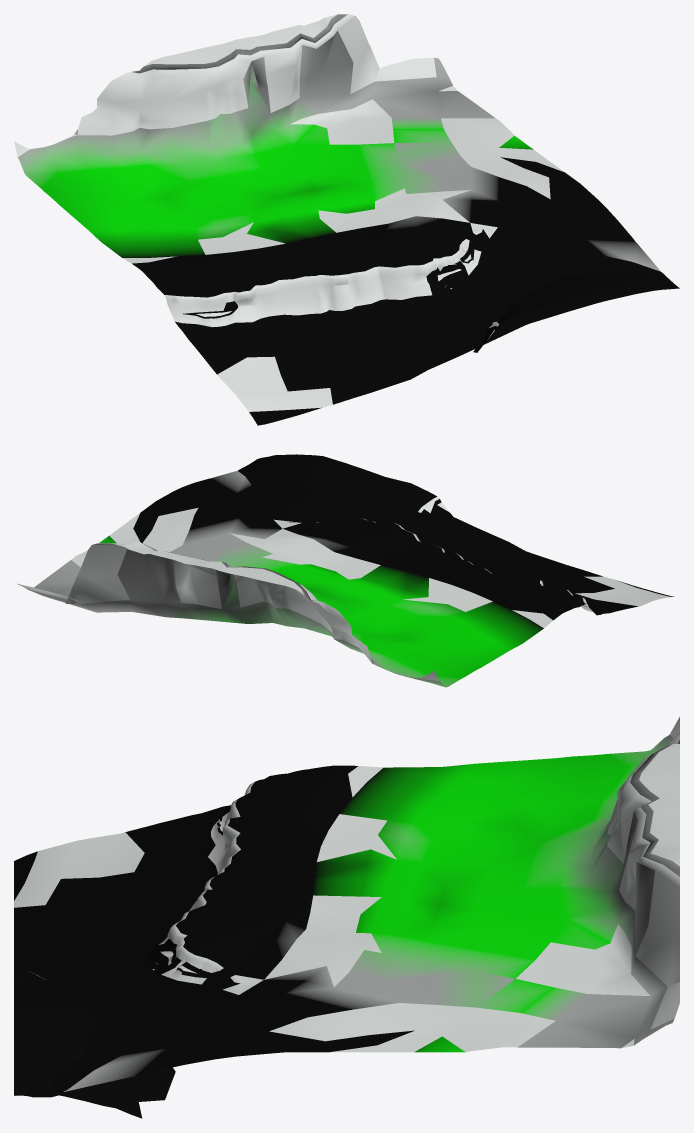
3 views of the same model, one above another, from view 1: azimuth 30°, elevation 25°; view 2: azimuth 150°, elevation 25°; view 3: azimuth 270°, elevation 25° (orthographic). The views are drawn at different scales.
Visible parts, largest first — view 1: G:\FFXIV-MapTools\exports\k5f1\bg\ex4\03_kld_k5\fld\k5f1\bgp (×8); view 2: G:\FFXIV-MapTools\exports\k5f1\bg\ex4\03_kld_k5\fld\k5f1\bgp (×8); view 3: G:\FFXIV-MapTools\exports\k5f1\bg\ex4\03_kld_k5\fld\k5f1\bgp (×9).
Part boxes in pixels (left/top/right/bottom): G:\FFXIV-MapTools\exports\k5f1\bg\ex4\03_kld_k5\fld\k5f1\bgp (×8): left=14, top=14, right=679, bottom=425; G:\FFXIV-MapTools\exports\k5f1\bg\ex4\03_kld_k5\fld\k5f1\bgp (×8): left=17, top=454, right=674, bottom=687; G:\FFXIV-MapTools\exports\k5f1\bg\ex4\03_kld_k5\fld\k5f1\bgp (×9): left=14, top=717, right=679, bottom=1118.
Size of the model in its own units: 128 by 44.73 by 128.
